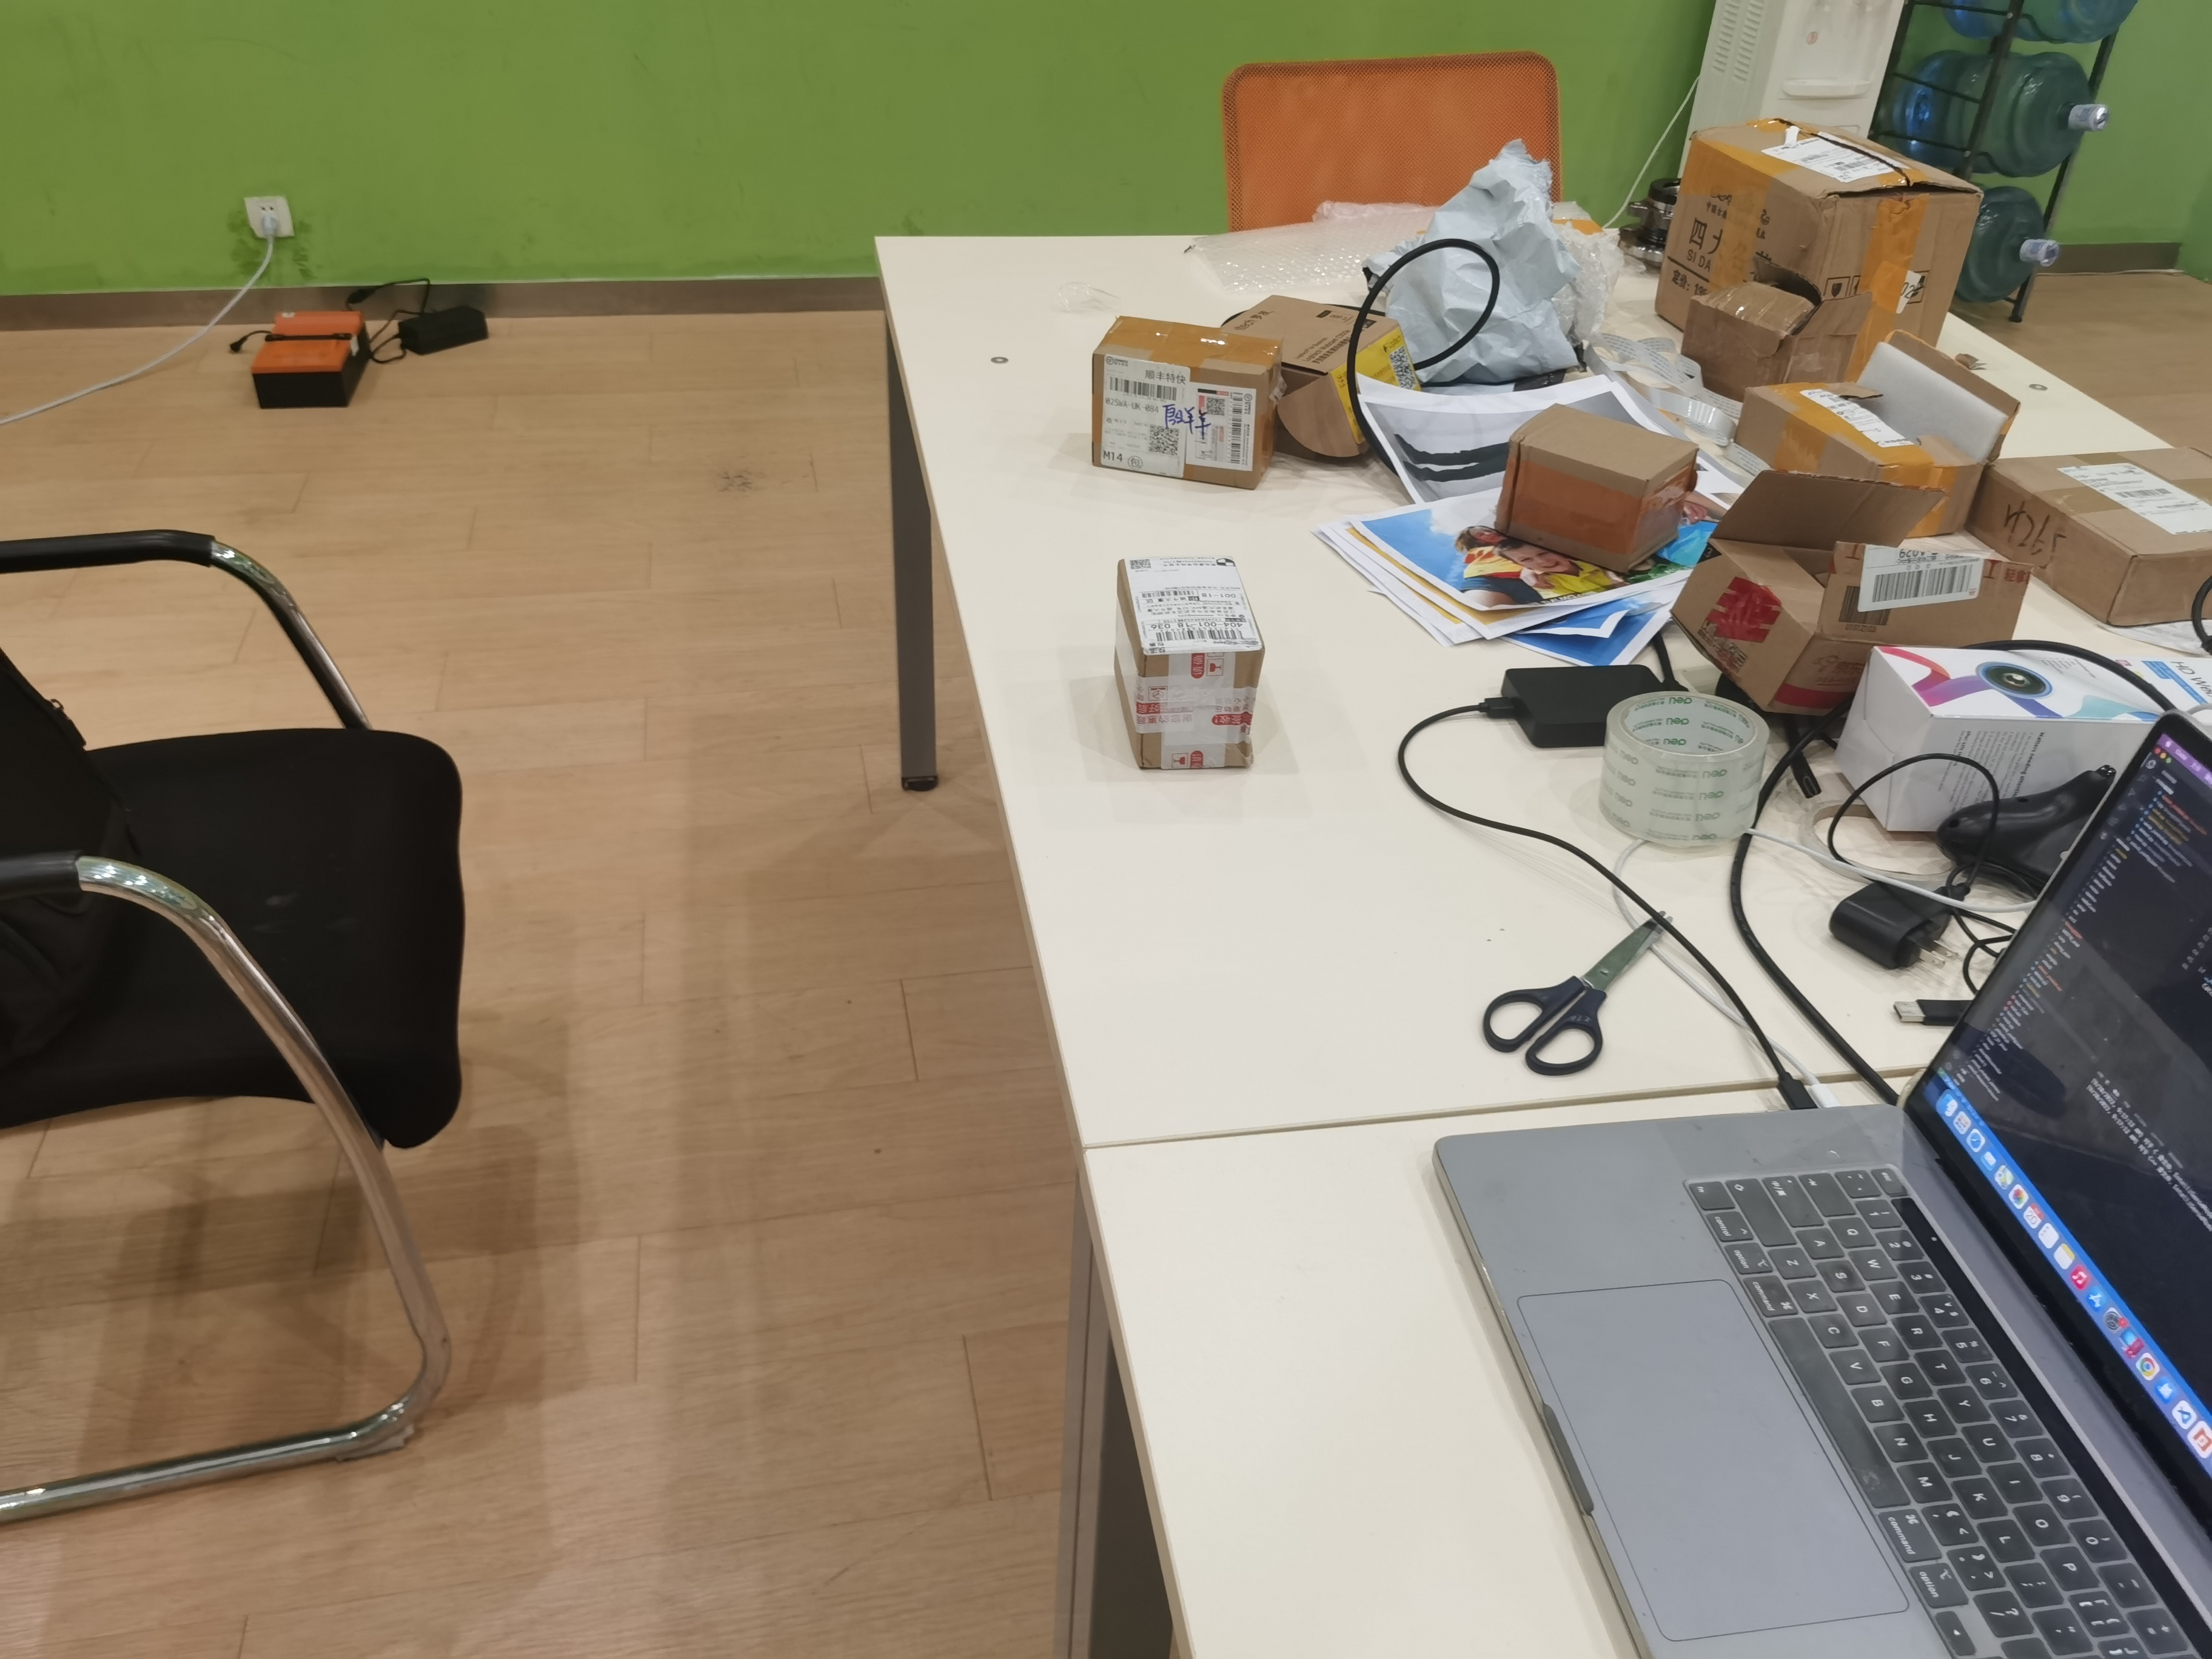box: (1639, 89, 2017, 361), (1676, 453, 2017, 714), (1994, 399, 2212, 636), (1078, 307, 1298, 512), (1097, 542, 1287, 769), (1487, 383, 1691, 579), (1653, 263, 1897, 408), (1230, 281, 1442, 436)
